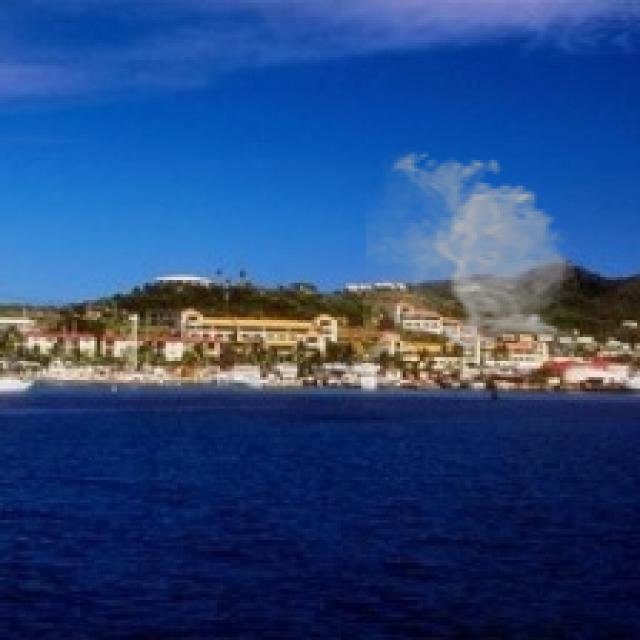Smoke: (366, 146, 580, 354)
